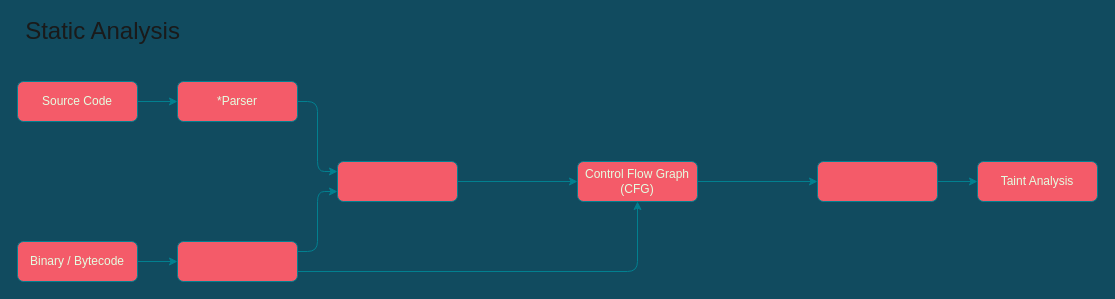
The diagram is 1115 pixels wide and 299 high, and some of its shapes have lost their labels. Here are the shapes that lost their labels. From the top down, the centre of each, then its label:
At point 397,181: "Abstract Syntax Tree (AST)".
At point 877,181: "Dataflow Analysis".
At point 237,261: "Decompiler / Disassembler".
